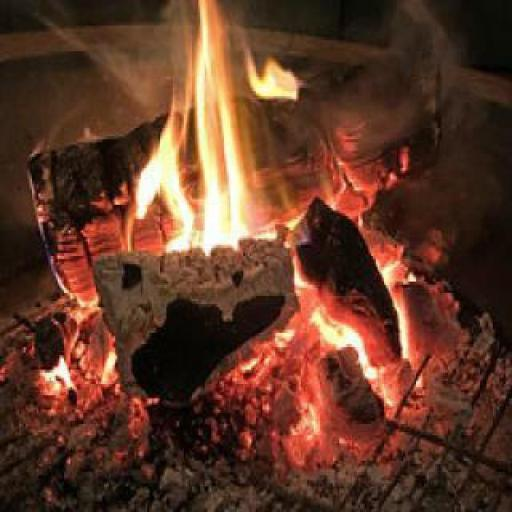smoke: (102, 3, 412, 387)
